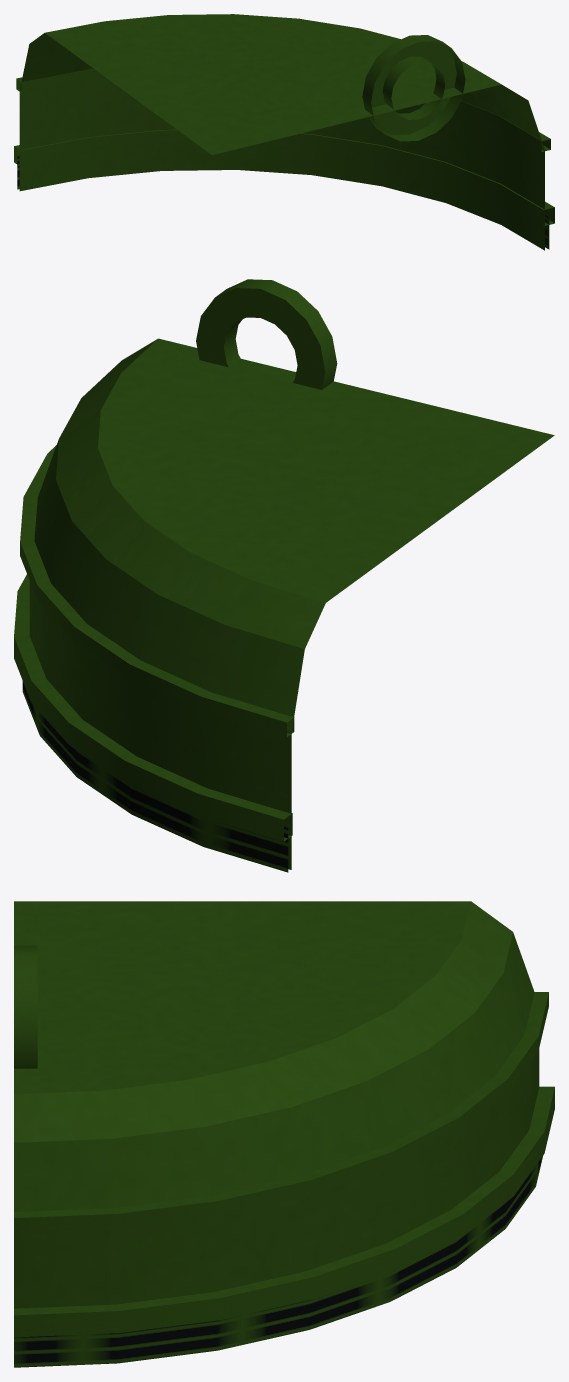
File: cell_34.obj
3 renders of one model, top to bottom at view 1: azimuth 30°, elevation 25°; view 2: azimuth 150°, elevation 25°; view 3: azimuth 270°, elevation 25°, orthographic. The views are drawn at different scales.
Visible parts, largest first — view 1: cell_34; view 2: cell_34; view 3: cell_34.
Part boxes in pixels (left/top/right/bottom): cell_34: left=14, top=14, right=554, bottom=250; cell_34: left=14, top=279, right=554, bottom=872; cell_34: left=14, top=901, right=554, bottom=1367.
Bounding box in the file's own units: 0.7481 × 0.5 × 0.7481.
